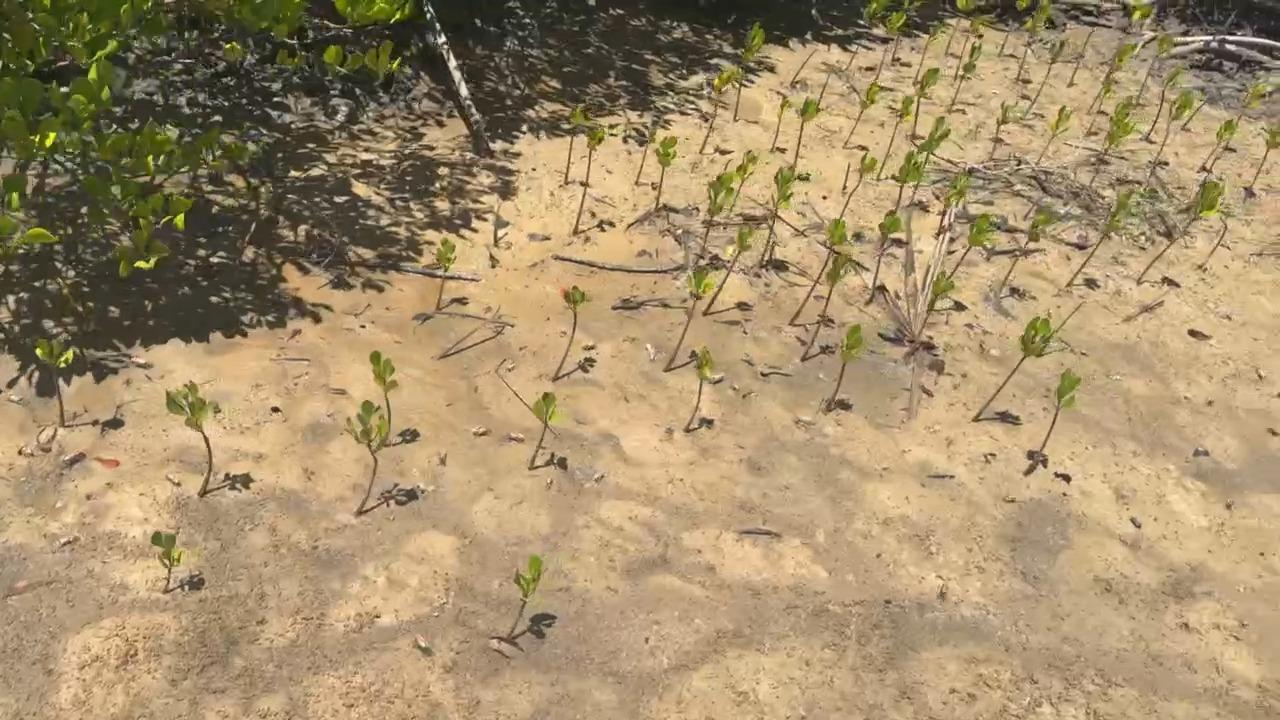Tree: (1136, 181, 1220, 285), (972, 316, 1053, 422), (1064, 190, 1131, 287), (789, 217, 848, 324), (165, 380, 216, 497), (661, 267, 711, 374), (800, 256, 848, 361), (344, 399, 386, 516), (702, 222, 754, 316), (1004, 205, 1054, 282), (759, 165, 795, 268), (34, 335, 74, 427), (1040, 368, 1081, 454), (572, 127, 604, 235), (874, 96, 915, 180), (825, 324, 863, 413), (1086, 43, 1131, 115), (733, 21, 765, 122), (552, 285, 585, 382), (847, 0, 892, 70), (699, 70, 736, 155), (507, 552, 543, 639), (909, 115, 952, 187), (1016, 0, 1053, 81), (1153, 91, 1193, 162), (838, 151, 878, 221), (699, 171, 735, 248), (949, 213, 991, 277), (869, 216, 901, 299), (684, 346, 713, 432), (1226, 85, 1265, 148), (1136, 34, 1174, 98), (842, 80, 877, 149), (1144, 69, 1179, 138), (1035, 105, 1072, 167), (528, 392, 557, 468), (369, 349, 398, 424), (950, 41, 982, 108), (919, 271, 955, 330), (875, 12, 905, 81), (937, 170, 967, 238), (151, 530, 182, 594), (998, 0, 1031, 60), (728, 149, 759, 212), (890, 0, 921, 60), (913, 68, 940, 136), (1249, 129, 1280, 188), (793, 95, 818, 168), (943, 0, 974, 56), (893, 150, 921, 211), (434, 237, 457, 311), (655, 135, 678, 208), (954, 16, 980, 79), (1065, 29, 1093, 87), (563, 108, 584, 185), (913, 24, 939, 85), (1086, 81, 1111, 133), (1105, 117, 1136, 157), (635, 127, 656, 186), (1205, 120, 1235, 161), (1101, 102, 1127, 149), (789, 48, 817, 87), (1043, 39, 1064, 83), (770, 98, 787, 151), (1056, 301, 1083, 334), (992, 102, 1015, 140), (817, 70, 831, 106), (492, 200, 502, 246), (842, 161, 851, 190)
